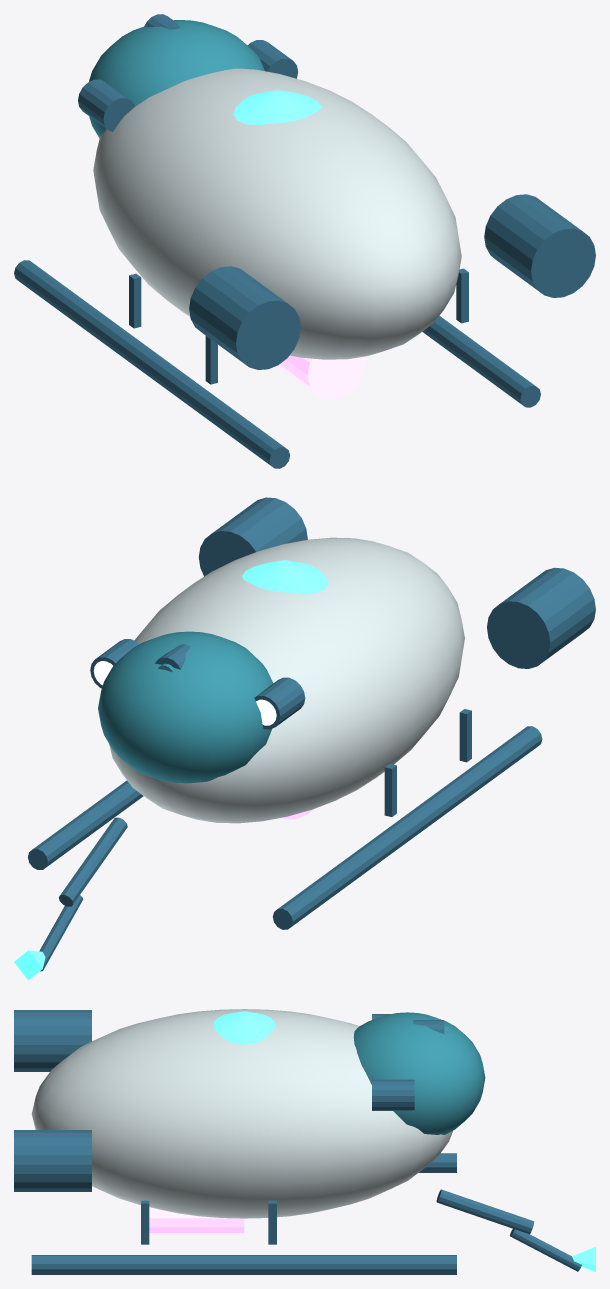
File: submersible.glb
3 renders of one model, top to bottom at view 1: azimuth 30°, elevation 25°; view 2: azimuth 150°, elevation 25°; view 3: azimuth 270°, elevation 25°, orthographic. The views are drawn at different scales.
Visible parts, largest first — view 1: Hull, Dome, SkidLeft, LeftThrusterShroud, RightThrusterShroud, SkidRight, SampleTube, SonarDish, SpotLeftCan, SpotRightCan, Strut, Strut.003; view 2: Hull, Dome, SkidLeft, LeftThrusterShroud, RightThrusterShroud, SkidRight, SonarDish, ArmUpper, SpotLeftCan, ArmFore, Strut, Strut.001 (+1 smaller); view 3: Hull, Dome, SkidRight, RightThrusterShroud, LeftThrusterShroud, SampleTube, SonarDish, ArmUpper, SpotRightCan, ArmFore, SkidLeft, Strut.002 (+2 smaller).
Part boxes in pixels (<box>): Hull: <box>93,68,461,359</box>; Dome: <box>89,20,264,138</box>; SkidLeft: <box>14,260,289,468</box>; LeftThrusterShroud: <box>189,266,300,369</box>; RightThrusterShroud: <box>484,194,595,297</box>; SkidRight: <box>422,316,540,407</box>; SampleTube: <box>277,355,366,399</box>; SonarDish: <box>233,90,321,125</box>; SpotLeftCan: <box>78,79,134,131</box>; SpotRightCan: <box>247,40,298,78</box>; Strut: <box>129,273,141,328</box>; Strut.003: <box>456,268,468,323</box>; Hull: <box>109,537,464,823</box>; Dome: <box>98,631,273,783</box>; SkidLeft: <box>272,726,542,929</box>; LeftThrusterShroud: <box>487,567,595,668</box>; RightThrusterShroud: <box>198,497,307,576</box>; SkidRight: <box>28,780,143,869</box>; SonarDish: <box>242,560,327,594</box>; ArmUpper: <box>59,817,127,906</box>; SpotLeftCan: <box>254,677,305,729</box>; ArmFore: <box>39,895,83,971</box>; Strut: <box>384,763,396,816</box>; Strut.001: <box>459,709,471,762</box>; Hull: <box>31,1009,452,1218</box>; Dome: <box>353,1012,485,1134</box>; SkidRight: <box>31,1255,456,1274</box>; RightThrusterShroud: <box>14,1130,91,1191</box>; LeftThrusterShroud: <box>14,1010,91,1071</box>; SampleTube: <box>149,1207,244,1234</box>; SonarDish: <box>213,1011,275,1044</box>; ArmUpper: <box>436,1189,534,1234</box>; SpotRightCan: <box>372,1079,414,1110</box>; ArmFore: <box>510,1229,581,1271</box>; SkidLeft: <box>419,1153,456,1172</box>; Strut.002: <box>268,1200,276,1244</box>.
Size of the model in its own units: 2.44 by 1.85 by 4.11.
